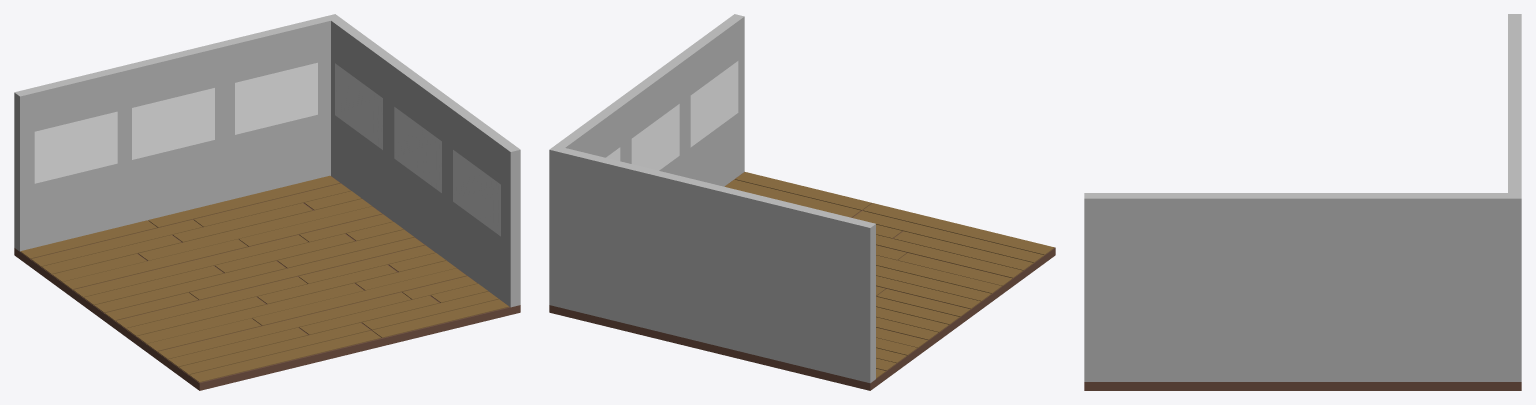
Rendered from frameRoom.glb.
3 renders of one model, left to right at view 1: azimuth 30°, elevation 25°; view 2: azimuth 150°, elevation 25°; view 3: azimuth 270°, elevation 25°, orthographic. The views are drawn at different scales.
Parts seen in each view (by area): view 1: Plane, Cube.024, frame.006, frame.004, frame.005, frame.001, frame.003, frame.002; view 2: Plane, Cube.024, frame.001, frame.002; view 3: Plane.
Boxes of the visible parts, box(x1,y1,x2,y2) form: Plane: box(14, 14, 520, 390); Cube.024: box(20, 175, 508, 382); frame.006: box(34, 111, 117, 183); frame.004: box(235, 62, 317, 134); frame.005: box(132, 88, 214, 159); frame.001: box(453, 150, 500, 236); frame.003: box(335, 63, 382, 149); frame.002: box(394, 107, 441, 192); Plane: box(549, 14, 1055, 390); Cube.024: box(724, 172, 1054, 378); frame.001: box(690, 61, 738, 147); frame.002: box(631, 104, 679, 170); Plane: box(1084, 14, 1521, 390).
Bounding box in the file's own units: 77.45 × 37.56 × 77.45.
